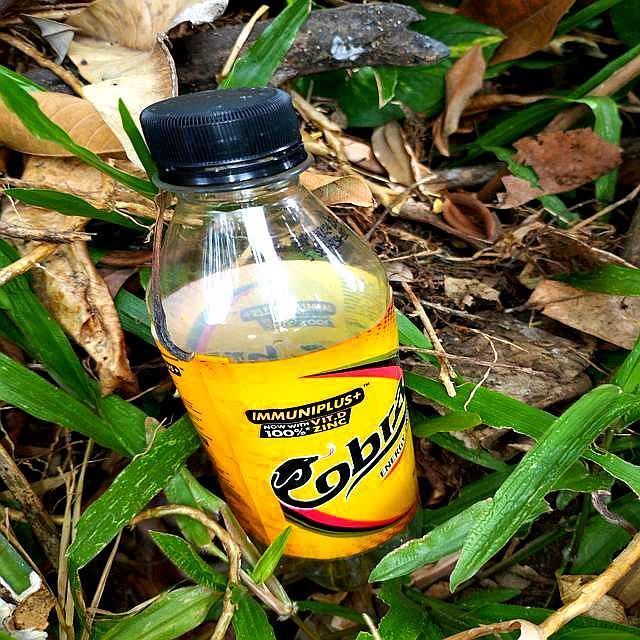Non-biodegradable: (137, 85, 422, 564)
